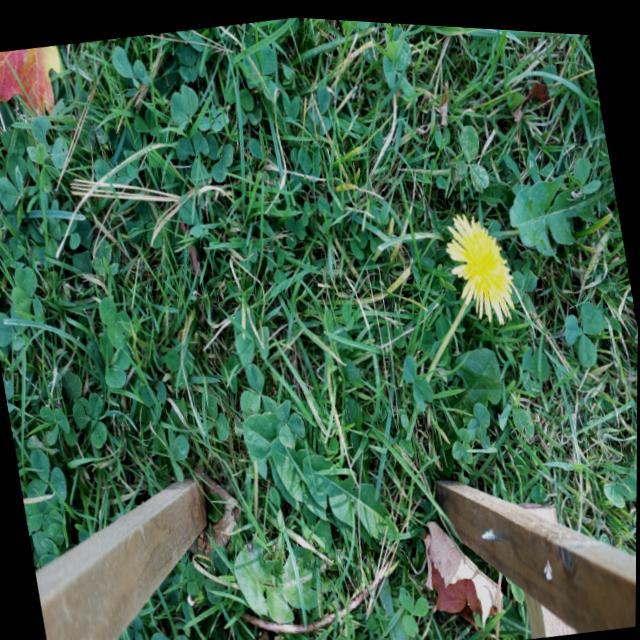base: (230, 590, 261, 630), (418, 348, 442, 386)
